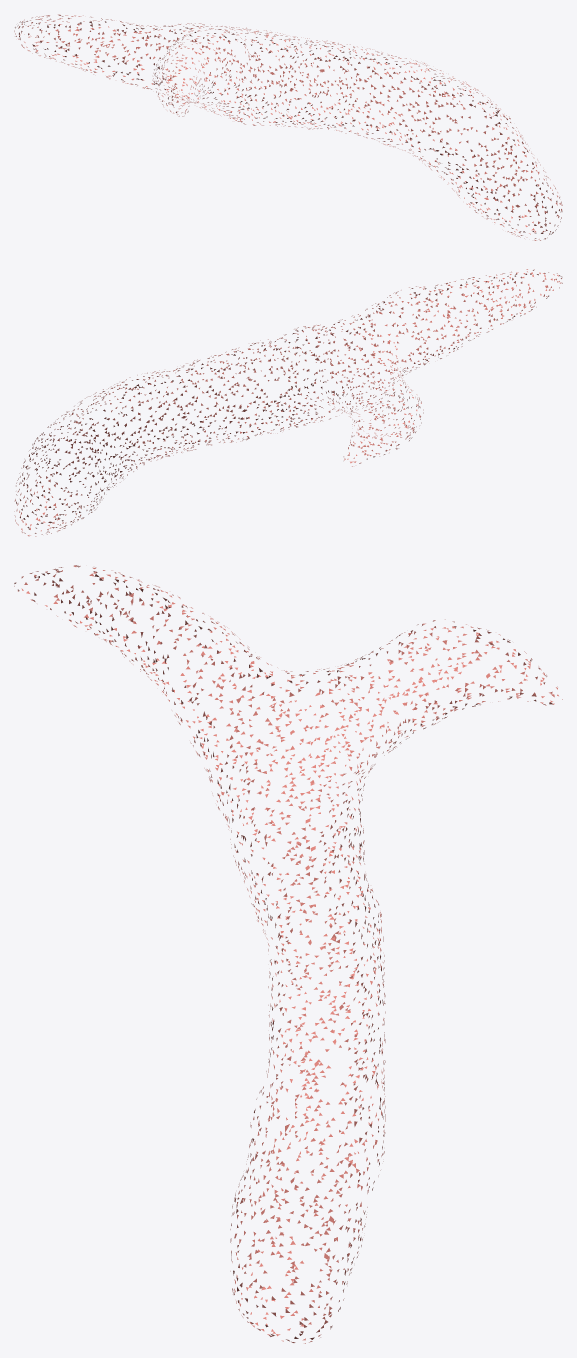
Rendered from morph_001.glb.
The picture shows the model from 3 angles, top to bottom: view 1: azimuth 30°, elevation 25°; view 2: azimuth 150°, elevation 25°; view 3: azimuth 270°, elevation 25°; orthographic projection. The views are drawn at different scales.
Bounding box in the file's own units: 120 × 79.29 × 83.83.
